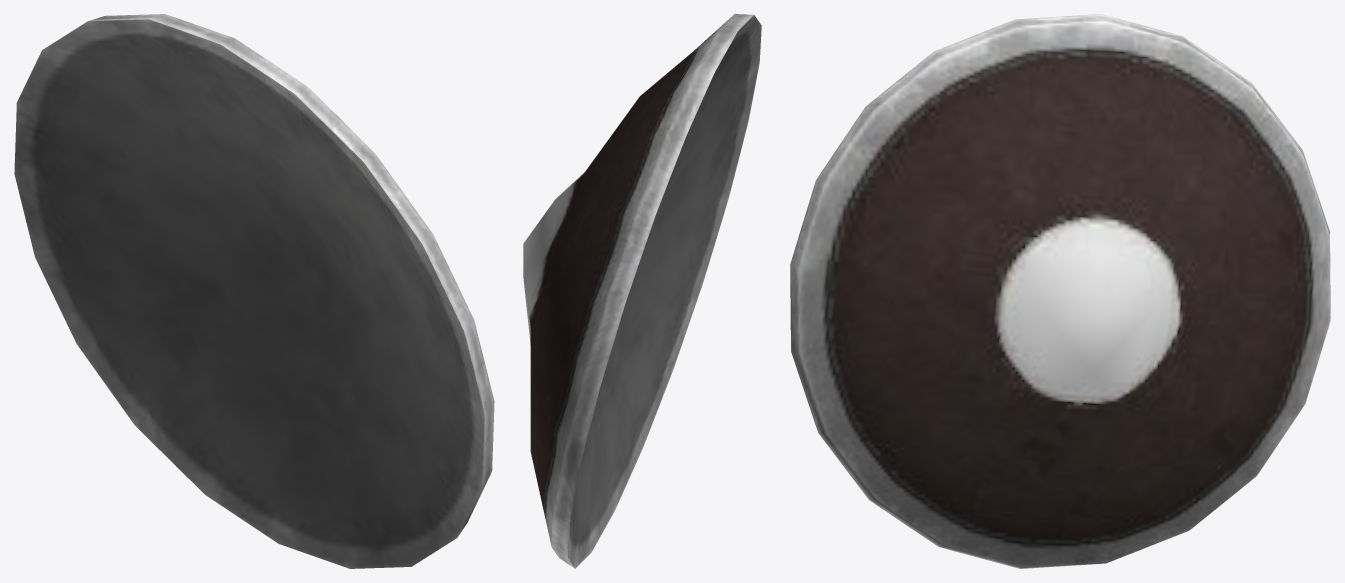
Rendered from shield-coppershields.glb.
3 renders of one model, left to right at view 1: azimuth 30°, elevation 25°; view 2: azimuth 150°, elevation 25°; view 3: azimuth 270°, elevation 25°, orthographic. The views are drawn at different scales.
Bounding box in the file's own units: 0.2548 × 0.5845 × 0.5764.
1 material, 1 textured.
